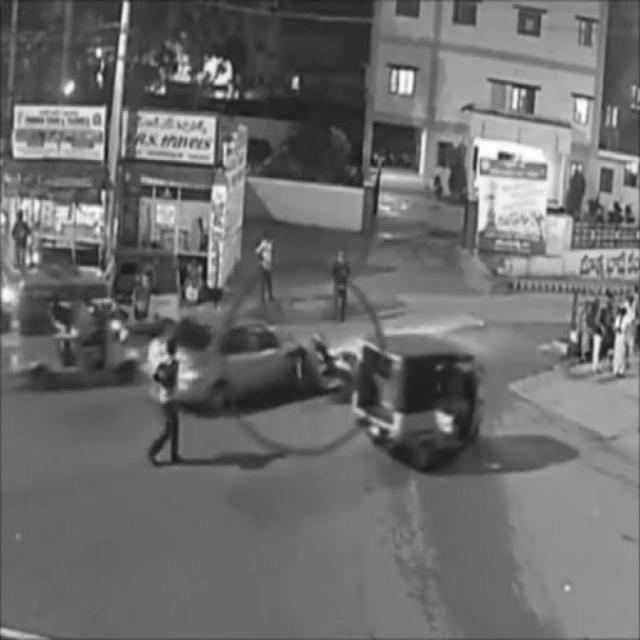accident: (154, 310, 365, 414)
person: (150, 336, 192, 468), (256, 233, 283, 306), (333, 247, 353, 320)
vehicle: (356, 338, 486, 470), (20, 267, 142, 391)
